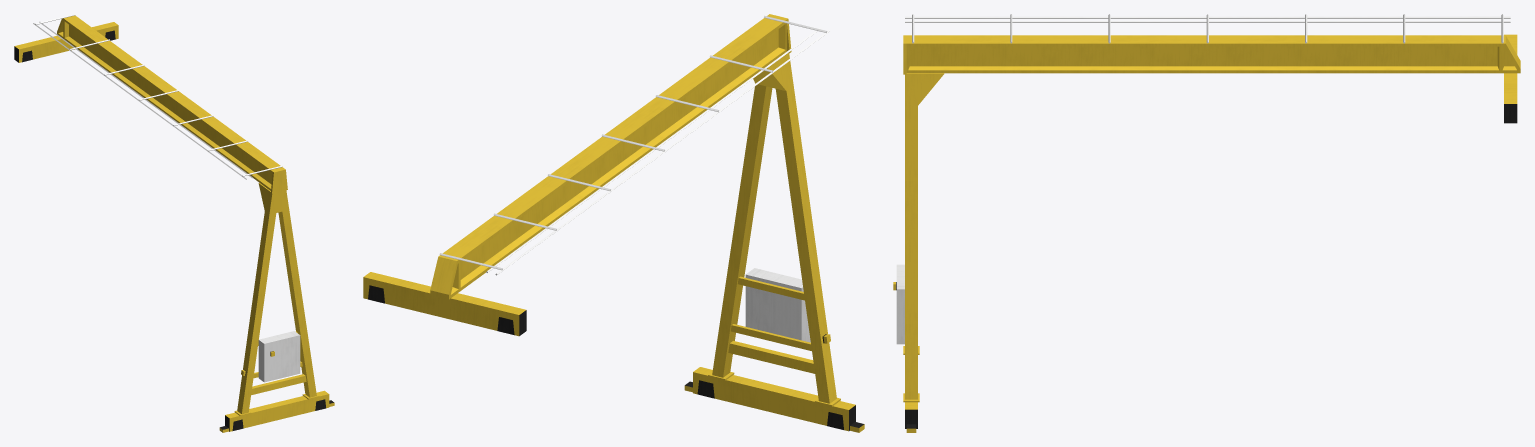
The model's file is warehouse_crane.glb.
The picture shows the model from 3 angles, left to right: view 1: azimuth 30°, elevation 25°; view 2: azimuth 150°, elevation 25°; view 3: azimuth 270°, elevation 25°; orthographic projection. The views are drawn at different scales.
Parts seen in each view (by area): view 1: Cube.276, Cube.008, Cube.280, Cube.277; view 2: Cube.276, Cube.008, Cube.280, Cube.277, Cube.279; view 3: Cube.276, Cube.280, Cube.008.
Part boxes in pixels (x1=…): Cube.276: x1=14, y1=15, x2=334, y2=432; Cube.008: x1=258, y1=331, x2=300, y2=382; Cube.280: x1=33, y1=14, x2=282, y2=179; Cube.277: x1=220, y1=351, x2=333, y2=431; Cube.276: x1=363, y1=14, x2=864, y2=432; Cube.008: x1=745, y1=268, x2=810, y2=342; Cube.280: x1=439, y1=15, x2=830, y2=275; Cube.277: x1=685, y1=334, x2=864, y2=430; Cube.279: x1=368, y1=285, x2=526, y2=335; Cube.276: x1=893, y1=34, x2=1520, y2=432; Cube.280: x1=905, y1=14, x2=1510, y2=43; Cube.008: x1=896, y1=264, x2=904, y2=344.
Bounding box in the file's own units: 11.2 × 24.04 × 38.3.
Materials: 3 (3 with a texture image).
